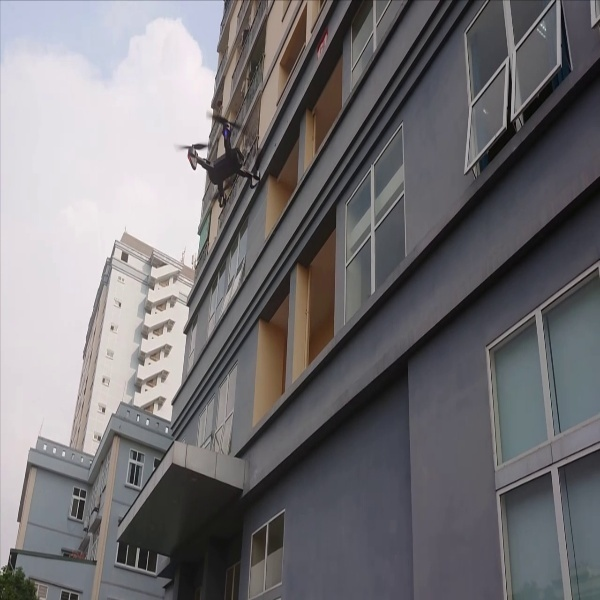drone: (171, 109, 277, 215)
